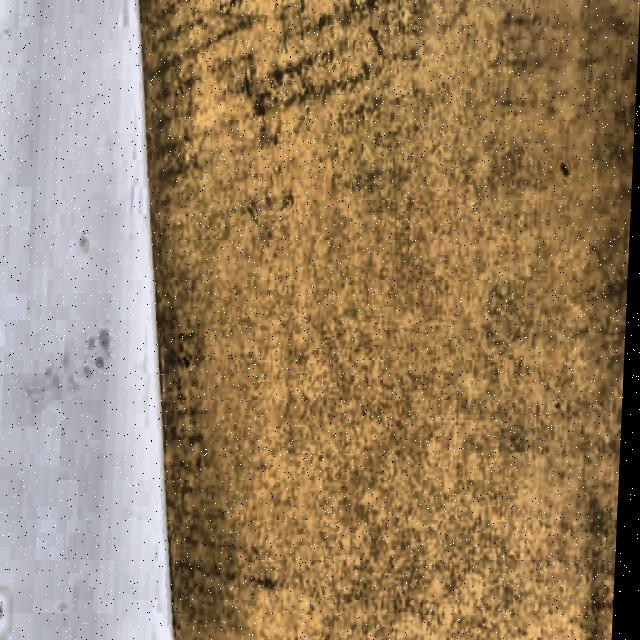cardboard: (101, 2, 640, 640)
